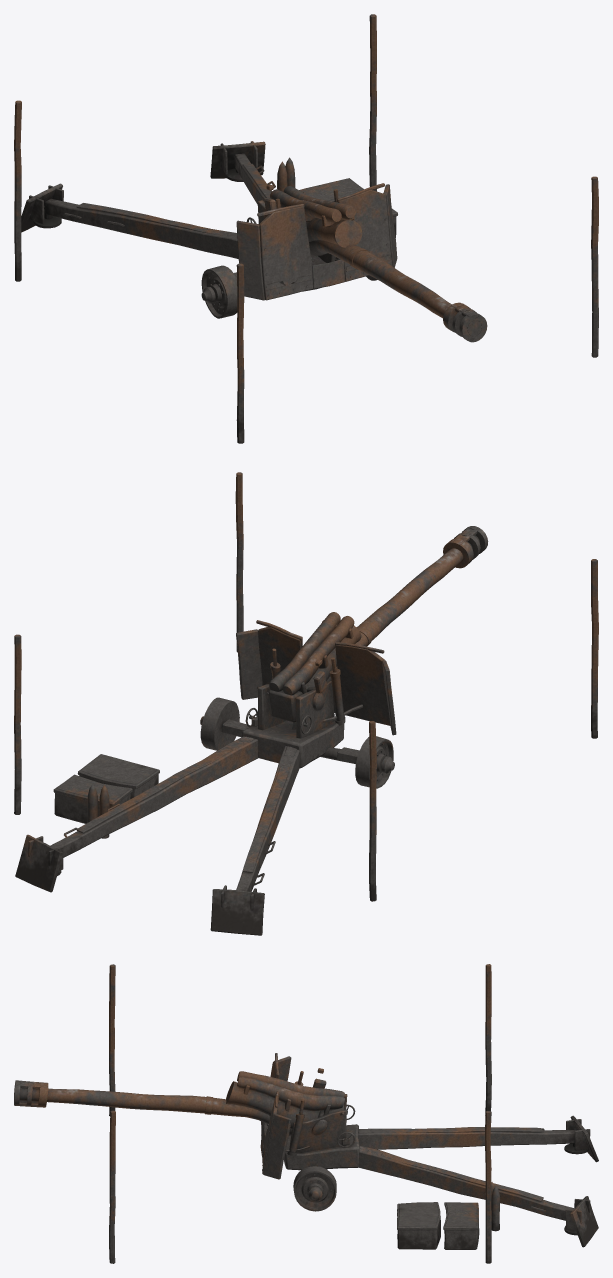
File: Wreck_Artillery.fbx
3 renders of one model, top to bottom at view 1: azimuth 30°, elevation 25°; view 2: azimuth 150°, elevation 25°; view 3: azimuth 270°, elevation 25°, orthographic. The views are drawn at different scales.
Parts seen in each view (by area): view 1: Wreck_Artillery_Mesh; view 2: Wreck_Artillery_Mesh; view 3: Wreck_Artillery_Mesh.
Boxes of the visible parts, x1=… form: Wreck_Artillery_Mesh: x1=14, y1=14, x2=598, y2=443; Wreck_Artillery_Mesh: x1=14, y1=472, x2=598, y2=935; Wreck_Artillery_Mesh: x1=14, y1=964, x2=598, y2=1263.
Bounding box in the file's own units: 4.88 × 2.42 × 8.08.
